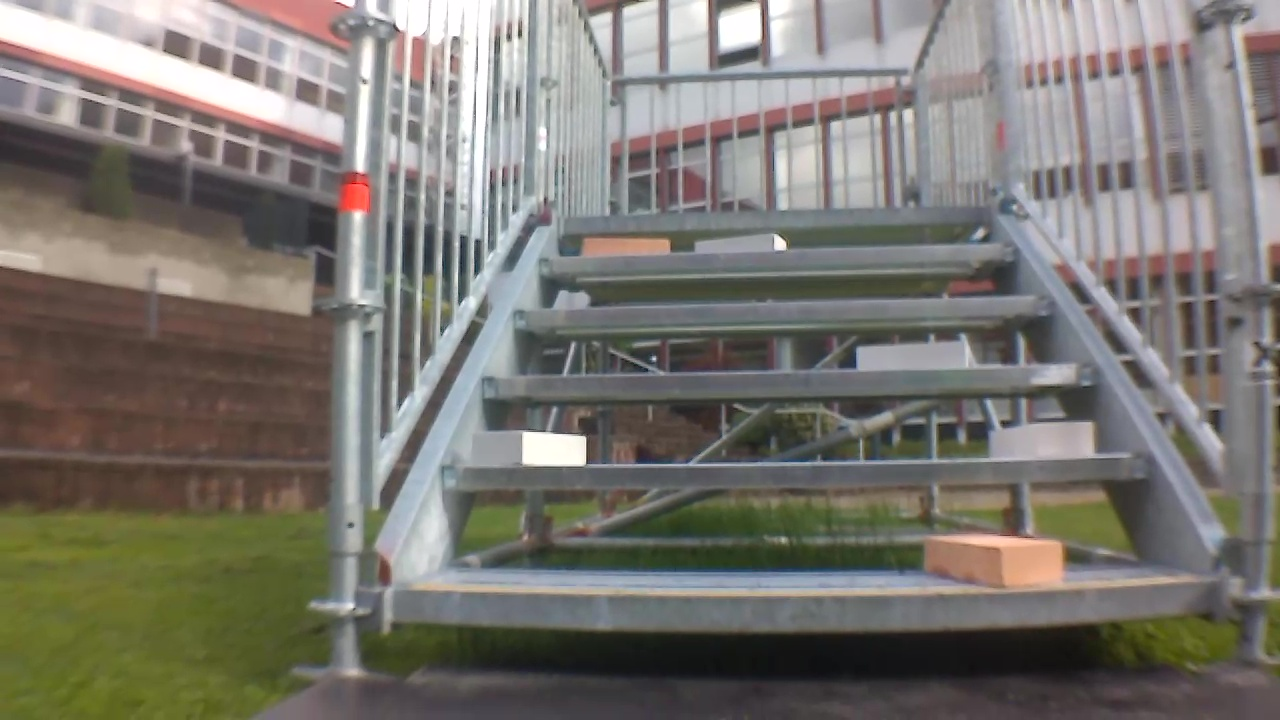brick: (924, 535, 1062, 589), (990, 421, 1093, 457), (472, 432, 587, 464), (858, 341, 969, 367), (696, 234, 785, 251), (583, 237, 669, 252)
edge: (393, 580, 1211, 629), (441, 454, 1144, 486), (483, 363, 1099, 397), (515, 296, 1057, 324), (539, 243, 1018, 270), (560, 205, 993, 229)
stairs: (321, 1, 1274, 668)
steps: (385, 201, 1222, 638)
